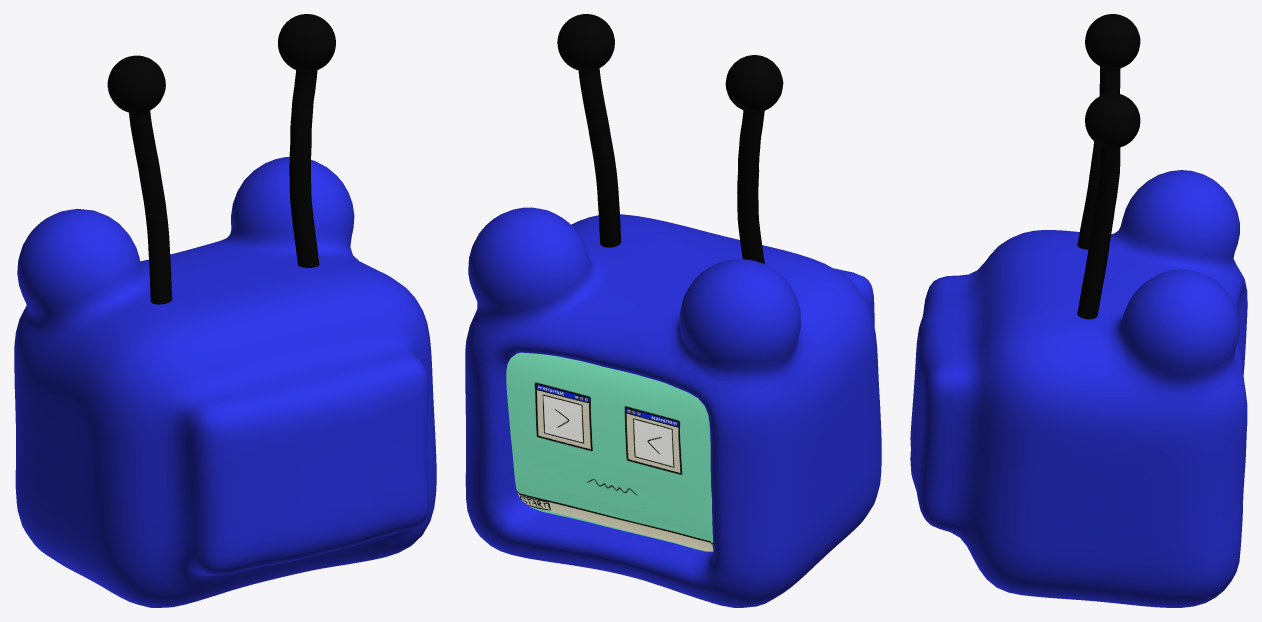
The model's file is tvman.glb.
3 views of the same model, side by side, from view 1: azimuth 30°, elevation 25°; view 2: azimuth 150°, elevation 25°; view 3: azimuth 270°, elevation 25° (orthographic). The views are drawn at different scales.
Visible parts, largest first — view 1: Retopo_Layer_1.001, Retopo_Layer_18.001; view 2: Retopo_Layer_1.001, Retopo_Layer_2.004, Retopo_Layer_18.001; view 3: Retopo_Layer_1.001, Retopo_Layer_18.001.
Part boxes in pixels (<box>): Retopo_Layer_1.001: <box>14,157,436,607</box>; Retopo_Layer_18.001: <box>107,14,335,304</box>; Retopo_Layer_1.001: <box>465,207,881,607</box>; Retopo_Layer_2.004: <box>506,352,713,551</box>; Retopo_Layer_18.001: <box>557,14,783,263</box>; Retopo_Layer_1.001: <box>910,170,1247,607</box>; Retopo_Layer_18.001: <box>1077,14,1140,319</box>.
Bounding box in the file's own units: 0.2463 × 0.3691 × 0.2278.
Materials: 3 (1 with a texture image).
